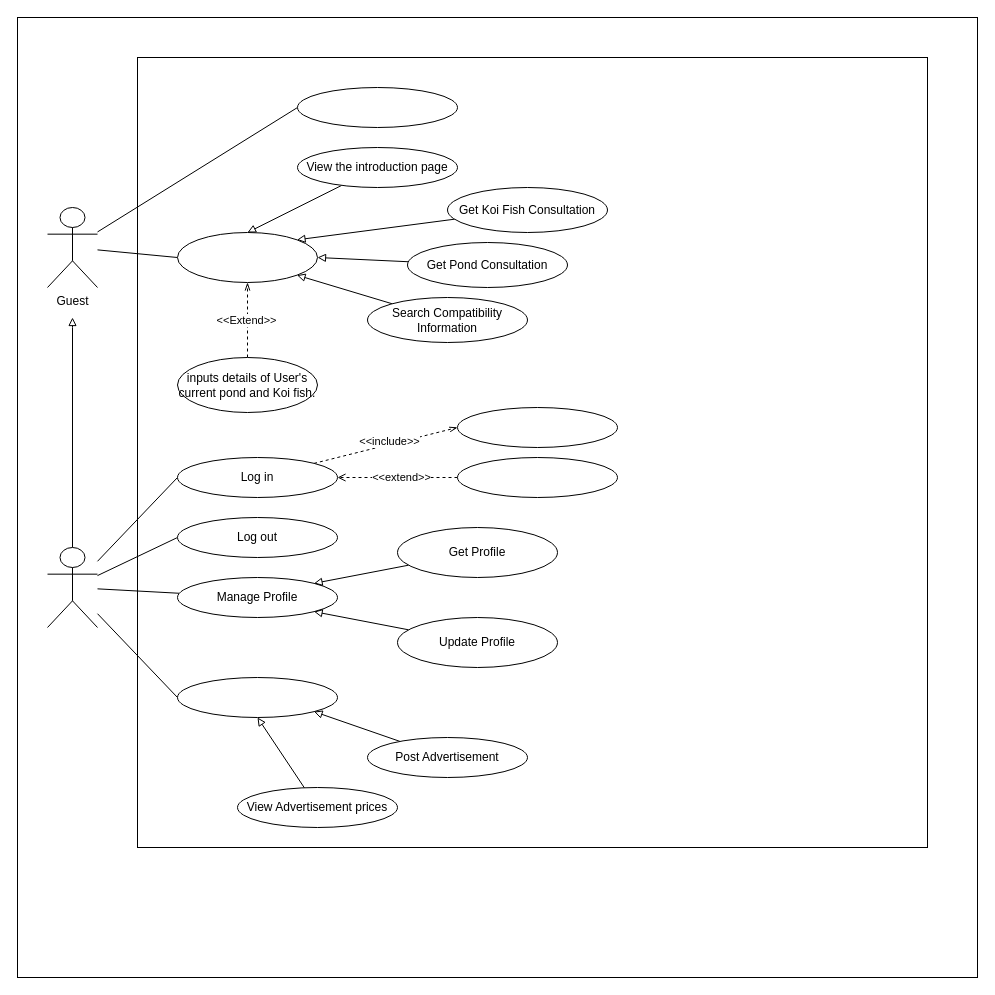
This 995x995 diagram has some shape labels left out. Each missing label, with the box of its shape:
inputs User's birth year and gender: (176, 232, 318, 282)
Member: (46, 546, 98, 628)
Post Management: (176, 676, 338, 718)
Reset password: (456, 456, 618, 498)
Sign up: (296, 86, 458, 128)
Verify Account: (456, 406, 618, 448)
